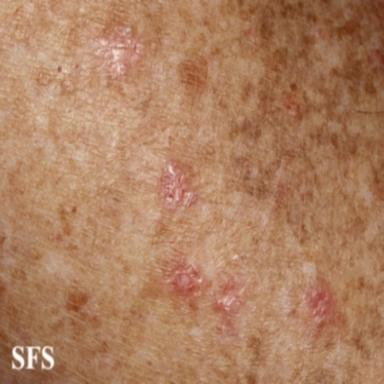Porokeratosis: (156, 248, 246, 336), (95, 25, 145, 79), (159, 160, 198, 210), (304, 276, 337, 325)
